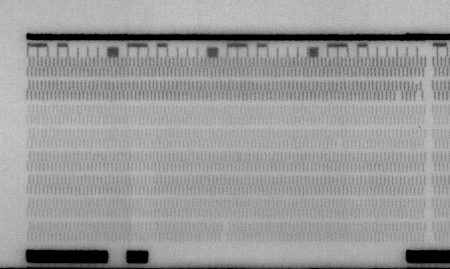Broken hole: (218, 223, 231, 244), (394, 90, 404, 103), (414, 92, 425, 103), (335, 139, 345, 151)
Oblique printing: (412, 78, 423, 93)
